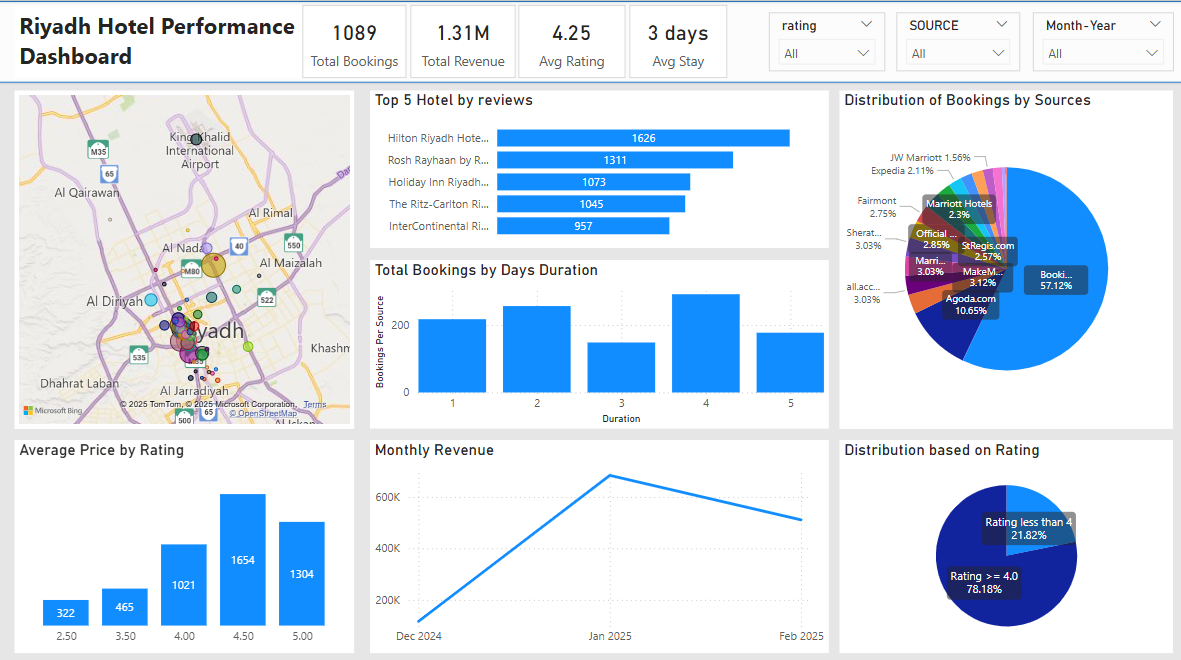

This screenshot's page, from the dashboard's own definition file:
{"tool":"powerbi","page":{"name":"Page 1","canvas":[1280,720],"ordinal":0},"visuals":[{"type":"shape","box":[0,0,1280,720],"z":0},{"type":"shape","box":[0,1.7,1280,90],"z":1000},{"type":"textbox","box":[18.3,6.7,310,78.3],"z":2000},{"type":"card","fields":{"Values":["Hotels Record.Total Reviews"]},"box":[328.3,6.7,111.7,78.3],"z":3000},{"type":"card","fields":{"Values":["Hotels Record.Average Rating"]},"box":[561.7,6.7,115,78.3],"z":4000},{"type":"slicer","fields":{"Values":["Hotels Record.rating"]},"box":[831.7,15,125,63.3],"z":5000},{"type":"slicer","fields":{"Values":["Riyadh_Hotels.SOURCE"]},"box":[970,15,133.3,63.3],"z":6000},{"type":"slicer","fields":{"Values":["Riyadh_Hotels.Month-Year"]},"box":[1116.7,15,151.7,63.3],"z":7000},{"type":"map","fields":{"Y":["Hotels Record.latitude"],"X":["Hotels Record.longitude"],"Series":["Hotels Record.hotel_name"],"Size":["Max(Hotels Record.count)"]},"box":[18.3,98.3,366.7,365],"z":8000},{"type":"lineChart","title":"Monthly Revenue","fields":{"Y":["Sum(Riyadh_Hotels.price)"],"Category":["Riyadh_Hotels.Month-Year"]},"box":[401.7,476.7,495,230],"z":9000},{"type":"pieChart","title":"Distribution of Bookings by Sources","fields":{"Category":["Riyadh_Hotels.SOURCE"],"Y":["Riyadh_Hotels.Bookings Per Source"]},"box":[908.3,98.3,360,365],"z":10000},{"type":"pieChart","title":"Distribution based on Rating","fields":{"Y":["Hotels Record.Total Hotels with Rating < 4.0","Hotels Record.Total Hotels with Rating > 4.0"]},"box":[908.3,476.7,360,230],"z":11000},{"type":"columnChart","title":"Average Price by Rating","fields":{"Category":["Hotels Record.rating"],"Y":["Avg(Riyadh_Hotels.price)"]},"box":[18.3,476.7,366.7,230],"z":12000},{"type":"barChart","title":"Top 5 Hotel by reviews","fields":{"Category":["Hotels Record.hotel_name"],"Y":["Max(Hotels Record.count)"]},"box":[401.7,98.3,495,170],"z":13000},{"type":"card","fields":{"Values":["Riyadh_Hotels.Average stay duration"]},"box":[681.7,6.7,105,78.3],"z":14000},{"type":"card","fields":{"Values":["Riyadh_Hotels.Total Revenue"]},"box":[445,6.7,113.3,78.3],"z":15000},{"type":"columnChart","title":"Total Bookings by Days Duration","fields":{"Category":["Riyadh_Hotels.Duration"],"Y":["Riyadh_Hotels.Bookings Per Source"]},"box":[401.7,281.7,495,181.7],"z":16000}]}

Visuals, with their boxes in screenshot pixels (x1, y1, x2, y2), scaled from the page's 1280x720 canvas onto the 1181x660 screenshot:
shape: select_region(0, 0, 1180, 659)
shape: select_region(0, 2, 1180, 84)
textbox: select_region(17, 6, 303, 78)
card - Hotels Record.Total Reviews: select_region(303, 6, 406, 78)
card - Hotels Record.Average Rating: select_region(518, 6, 624, 78)
slicer - Hotels Record.rating: select_region(767, 14, 883, 72)
slicer - Riyadh_Hotels.SOURCE: select_region(895, 14, 1018, 72)
slicer - Riyadh_Hotels.Month-Year: select_region(1030, 14, 1170, 72)
map - Hotels Record.latitude x Hotels Record.longitude: select_region(17, 90, 355, 425)
"Monthly Revenue" lineChart: select_region(371, 437, 827, 648)
"Distribution of Bookings by Sources" pieChart: select_region(838, 90, 1170, 425)
"Distribution based on Rating" pieChart: select_region(838, 437, 1170, 648)
"Average Price by Rating" columnChart: select_region(17, 437, 355, 648)
"Top 5 Hotel by reviews" barChart: select_region(371, 90, 827, 246)
card - Riyadh_Hotels.Average stay duration: select_region(629, 6, 726, 78)
card - Riyadh_Hotels.Total Revenue: select_region(411, 6, 515, 78)
"Total Bookings by Days Duration" columnChart: select_region(371, 258, 827, 425)
